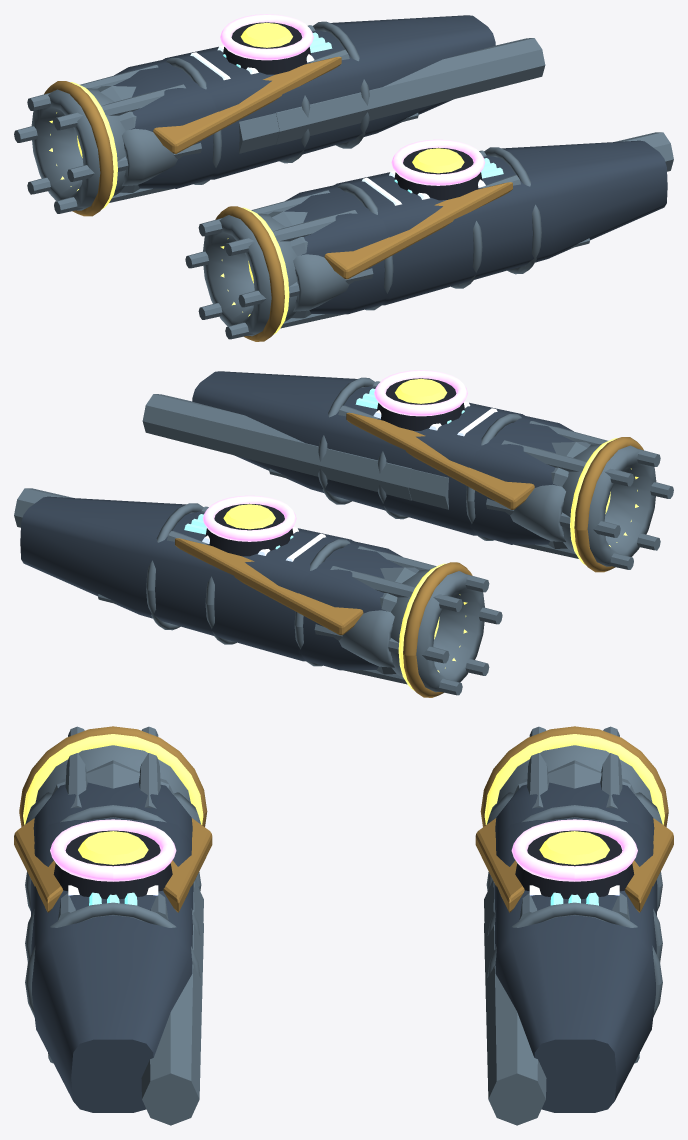
Rendered from engine.glb.
The picture shows the model from 3 angles, top to bottom: view 1: azimuth 30°, elevation 25°; view 2: azimuth 150°, elevation 25°; view 3: azimuth 270°, elevation 25°; orthographic projection. The views are drawn at different scales.
Visible parts, largest first — view 1: e_twin Fitting gunmetal, e_nova Brushed fitting edges, e_twin Brushed fitting edges, e_nova Fitting gunmetal, e_nova Champagne gold edging, e_ion Brushed fitting edges, e_fusion e_fusion emitter, e_fusion Machined graphite, e_fusion Fusion amber core, e_fusion Brushed fitting edges, e_nova e_nova emitter, e_ion e_ion emitter (+1 smaller); view 2: e_twin Fitting gunmetal, e_nova Brushed fitting edges, e_twin Brushed fitting edges, e_nova Champagne gold edging, e_nova Fitting gunmetal, e_ion Brushed fitting edges, e_fusion e_fusion emitter, e_fusion Machined graphite, e_fusion Fusion amber core, e_fusion Brushed fitting edges, e_nova e_nova emitter, e_ion e_ion emitter (+1 smaller); view 3: e_twin Fitting gunmetal, e_twin Brushed fitting edges, e_nova Champagne gold edging, e_nova Brushed fitting edges, e_nova Fitting gunmetal, e_fusion e_fusion emitter, e_ion Brushed fitting edges, e_nova e_nova emitter, e_fusion Machined graphite, e_fusion Fusion amber core, e_fusion Brushed fitting edges, e_twin e_twin emitter.
Part boxes in pixels (left/top/right/bottom): e_twin Fitting gunmetal: left=162, top=15, right=667, bottom=305; e_nova Brushed fitting edges: left=14, top=65, right=373, bottom=339; e_twin Brushed fitting edges: left=122, top=25, right=673, bottom=311; e_nova Fitting gunmetal: left=113, top=60, right=389, bottom=314; e_nova Champagne gold edging: left=44, top=56, right=512, bottom=341; e_ion Brushed fitting edges: left=166, top=21, right=541, bottom=310; e_fusion e_fusion emitter: left=220, top=14, right=485, bottom=185; e_fusion Machined graphite: left=223, top=22, right=482, bottom=200; e_fusion Fusion amber core: left=240, top=22, right=464, bottom=173; e_fusion Brushed fitting edges: left=97, top=86, right=589, bottom=318; e_nova e_nova emitter: left=49, top=82, right=289, bottom=334; e_ion e_ion emitter: left=190, top=45, right=485, bottom=205; e_twin Fitting gunmetal: left=20, top=371, right=525, bottom=661; e_nova Brushed fitting edges: left=314, top=421, right=673, bottom=695; e_twin Brushed fitting edges: left=14, top=381, right=565, bottom=667; e_nova Champagne gold edging: left=175, top=412, right=643, bottom=697; e_nova Fitting gunmetal: left=298, top=416, right=574, bottom=670; e_ion Brushed fitting edges: left=146, top=377, right=521, bottom=666; e_fusion e_fusion emitter: left=202, top=370, right=467, bottom=541; e_fusion Machined graphite: left=205, top=378, right=464, bottom=556; e_fusion Fusion amber core: left=223, top=378, right=447, bottom=529; e_fusion Brushed fitting edges: left=98, top=442, right=590, bottom=674; e_nova e_nova emitter: left=398, top=438, right=638, bottom=690; e_ion e_ion emitter: left=202, top=401, right=497, bottom=561; e_twin Fitting gunmetal: left=30, top=817, right=657, bottom=1112; e_twin Brushed fitting edges: left=25, top=792, right=662, bottom=1125; e_nova Champagne gold edging: left=14, top=726, right=673, bottom=912; e_nova Brushed fitting edges: left=35, top=726, right=652, bottom=921; e_nova Fitting gunmetal: left=33, top=782, right=654, bottom=842; e_fusion e_fusion emitter: left=50, top=819, right=637, bottom=881; e_ion Brushed fitting edges: left=25, top=805, right=662, bottom=1016; e_nova e_nova emitter: left=23, top=734, right=664, bottom=824; e_fusion Machined graphite: left=53, top=830, right=634, bottom=899; e_fusion Fusion amber core: left=78, top=831, right=609, bottom=864; e_fusion Brushed fitting edges: left=48, top=760, right=639, bottom=1063; e_twin e_twin emitter: left=89, top=892, right=598, bottom=905.
Bounding box in the file's own units: 15.81 × 4.29 × 14.3.
